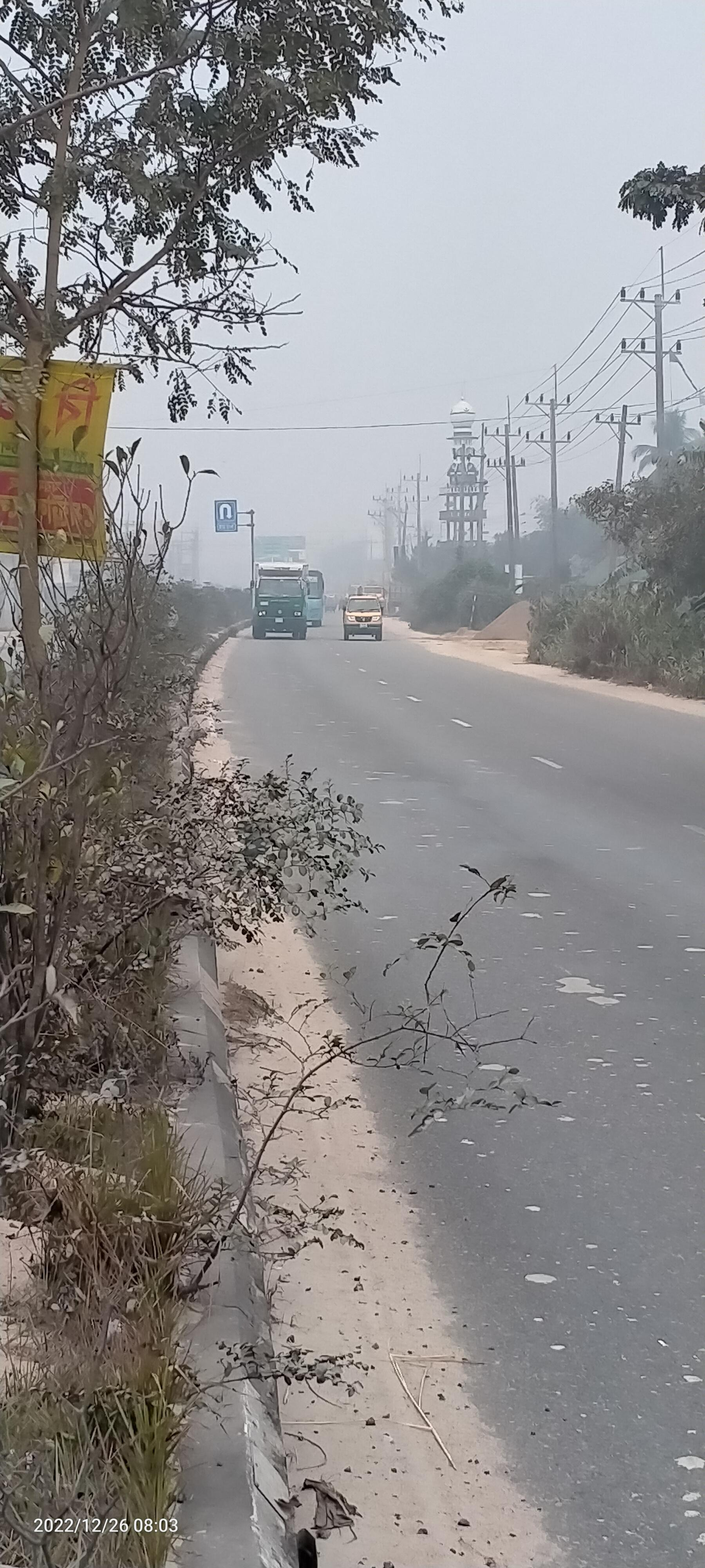Bus: (304, 566, 326, 629)
Truck: (249, 560, 310, 643), (340, 590, 387, 643)
